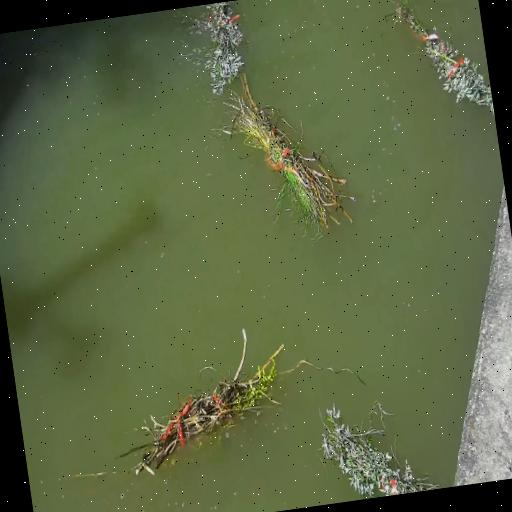twig: (131, 330, 284, 473), (225, 74, 353, 233), (385, 1, 494, 114), (322, 404, 437, 498), (205, 1, 243, 94)
